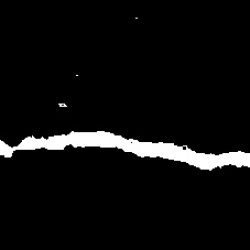crack: (0, 132, 248, 172), (58, 104, 66, 107), (74, 74, 77, 75), (137, 17, 139, 18)
